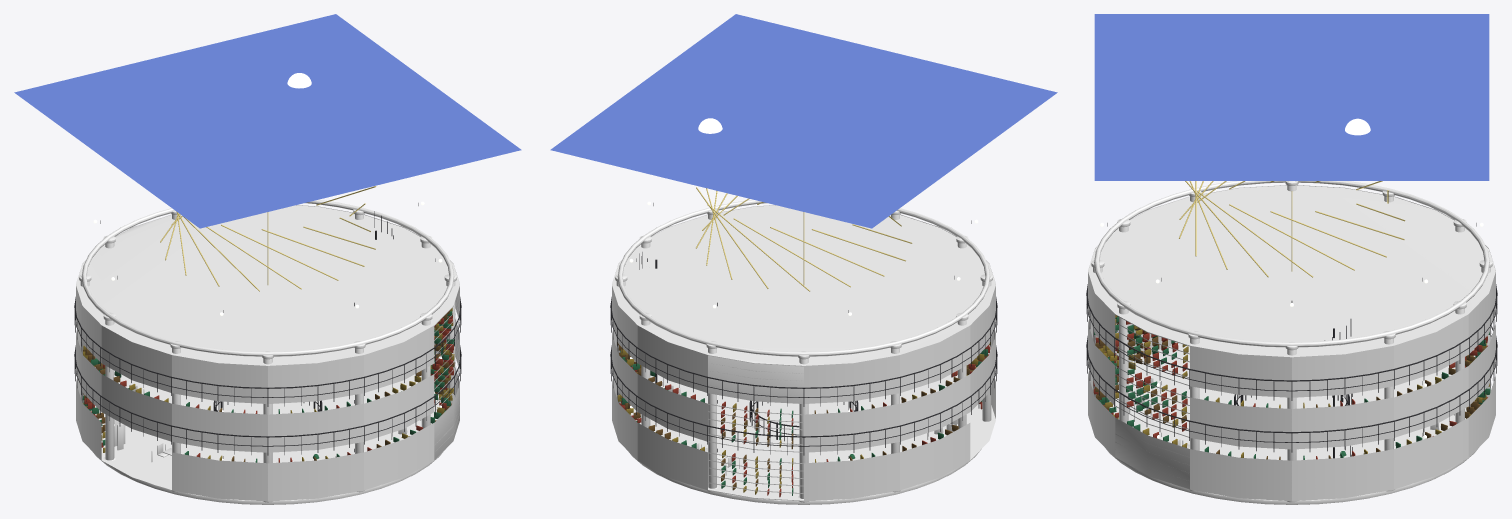
File: demolibrary.glb
3 views of the same model, side by side, from view 1: azimuth 30°, elevation 25°; view 2: azimuth 150°, elevation 25°; view 3: azimuth 270°, elevation 25° (orthographic). The views are drawn at different scales.
Visible parts, largest first — view 1: SkyBackdrop, ShelfBack_T2_B3, ShelfBack_T0_B10, Cornice, ShelfBack_T0_B7, ShelfBack_T0_B8, ShelfBack_T2_B8, ShelfBack_T2_B7, ShelfBack_T1_B8, ShelfBack_T1_B7, ShelfBack_T0_B9, ShelfBack_T2_B6 (+12 smaller); view 2: SkyBackdrop, ShelfBack_T2_B3, ShelfBack_T0_B10, Cornice, ShelfBack_T0_B4, ShelfBack_T2_B4, ShelfBack_T1_B4, ShelfBack_T0_B2, ShelfBack_T0_B5, ShelfBack_T2_B2, ShelfBack_T2_B5, ShelfBack_T1_B5 (+13 smaller); view 3: SkyBackdrop, ShelfBack_T2_B3, ShelfBack_T0_B10, Cornice, ShelfBack_T0_B11, ShelfBack_T0_B0, ShelfBack_T2_B11, ShelfBack_T2_B0, ShelfBack_T1_B11, ShelfBack_T1_B0, ShelfBack_T0_B1, ShelfBack_T2_B1 (+13 smaller).
Boxes of the visible parts, left/top/right/bottom form: SkyBackdrop: left=14, top=14, right=521, bottom=228; ShelfBack_T2_B3: left=76, top=205, right=459, bottom=365; ShelfBack_T0_B10: left=91, top=372, right=459, bottom=489; Cornice: left=81, top=199, right=454, bottom=356; ShelfBack_T0_B7: left=172, top=453, right=267, bottom=500; ShelfBack_T0_B8: left=268, top=453, right=363, bottom=500; ShelfBack_T2_B8: left=268, top=355, right=363, bottom=403; ShelfBack_T2_B7: left=172, top=355, right=267, bottom=403; ShelfBack_T1_B8: left=268, top=404, right=363, bottom=452; ShelfBack_T1_B7: left=172, top=404, right=267, bottom=452; ShelfBack_T0_B9: left=364, top=423, right=434, bottom=489; ShelfBack_T2_B6: left=101, top=326, right=171, bottom=392; SkyBackdrop: left=550, top=14, right=1057, bottom=228; ShelfBack_T2_B3: left=612, top=205, right=995, bottom=403; ShelfBack_T0_B10: left=630, top=374, right=995, bottom=500; Cornice: left=617, top=199, right=990, bottom=356; ShelfBack_T0_B4: left=804, top=453, right=899, bottom=500; ShelfBack_T2_B4: left=804, top=355, right=899, bottom=403; ShelfBack_T1_B4: left=804, top=404, right=899, bottom=452; ShelfBack_T0_B2: left=637, top=423, right=707, bottom=489; ShelfBack_T0_B5: left=900, top=423, right=970, bottom=489; ShelfBack_T2_B2: left=637, top=326, right=707, bottom=392; ShelfBack_T2_B5: left=900, top=326, right=970, bottom=392; ShelfBack_T1_B5: left=900, top=375, right=970, bottom=440; SkyBackdrop: left=1094, top=14, right=1489, bottom=180; ShelfBack_T2_B3: left=1088, top=185, right=1495, bottom=357; ShelfBack_T0_B10: left=1109, top=343, right=1474, bottom=488; Cornice: left=1094, top=181, right=1489, bottom=347; ShelfBack_T0_B11: left=1190, top=450, right=1291, bottom=500; ShelfBack_T0_B0: left=1292, top=449, right=1393, bottom=500; ShelfBack_T2_B11: left=1190, top=346, right=1291, bottom=397; ShelfBack_T2_B0: left=1292, top=346, right=1393, bottom=396; ShelfBack_T1_B11: left=1190, top=398, right=1291, bottom=448; ShelfBack_T1_B0: left=1292, top=398, right=1393, bottom=448; ShelfBack_T0_B1: left=1394, top=418, right=1468, bottom=488; ShelfBack_T2_B1: left=1394, top=315, right=1468, bottom=385.
Bounding box in the file's own units: 18.76 × 19.7 × 18.76.
